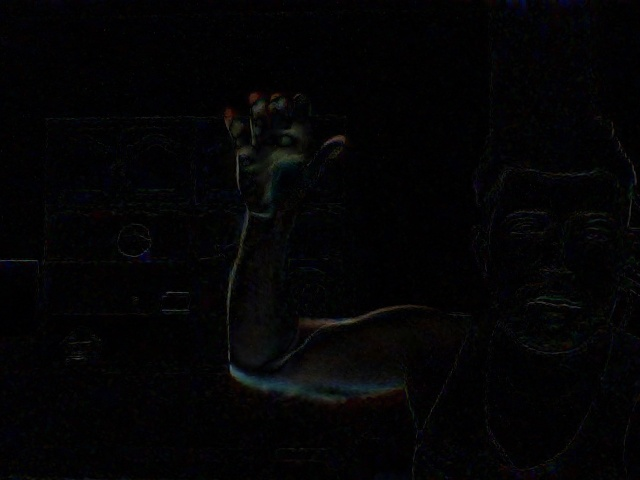arm_fo: (215, 72, 343, 320)
